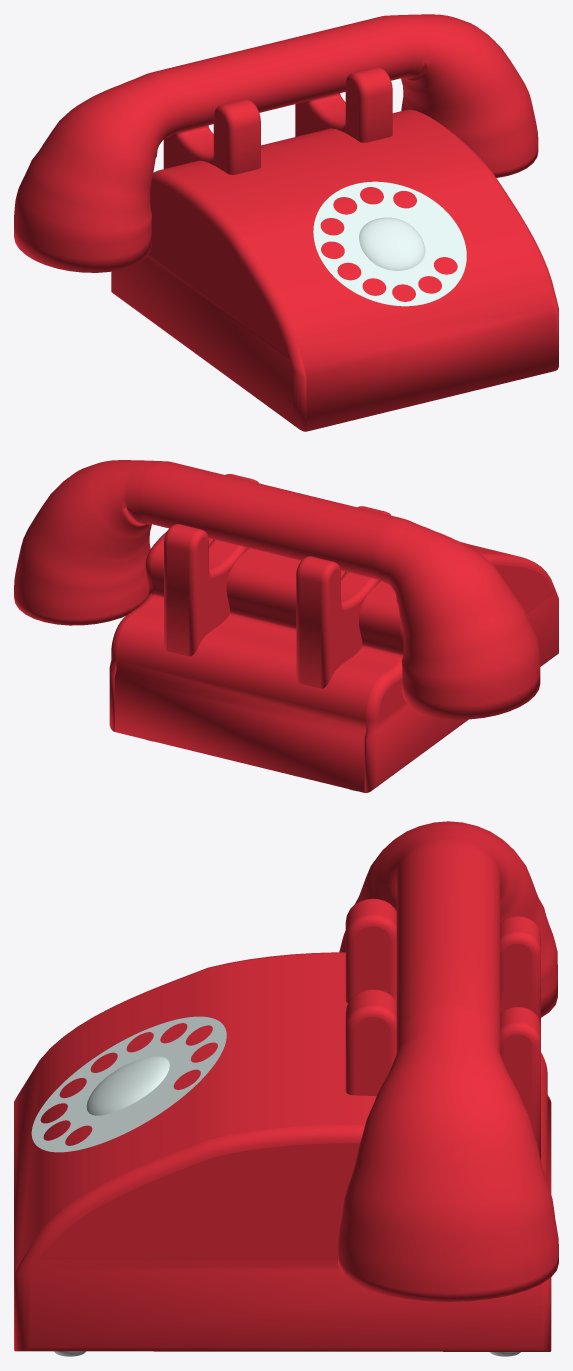
The model's file is telephoneRed.fbx.
3 renders of one model, top to bottom at view 1: azimuth 30°, elevation 25°; view 2: azimuth 150°, elevation 25°; view 3: azimuth 270°, elevation 25°, orthographic. The views are drawn at different scales.
Parts seen in each view (by area): view 1: Body, Phone, Numbers; view 2: Body, Phone; view 3: Body, Phone, Numbers.
Boxes of the visible parts, x1,y1,x2,y2 form: Body: [111, 67, 558, 431]; Phone: [14, 14, 538, 272]; Numbers: [313, 181, 466, 306]; Body: [109, 474, 558, 792]; Phone: [14, 460, 540, 719]; Body: [14, 898, 551, 1351]; Phone: [338, 821, 558, 1301]; Numbers: [31, 1016, 226, 1152].
Bounding box in the file's own units: 327 × 158 × 219.
